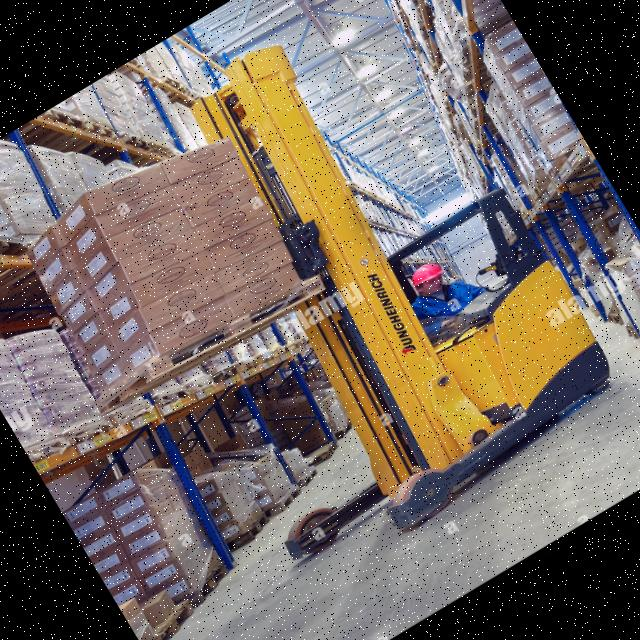Person: (398, 245, 494, 338)
